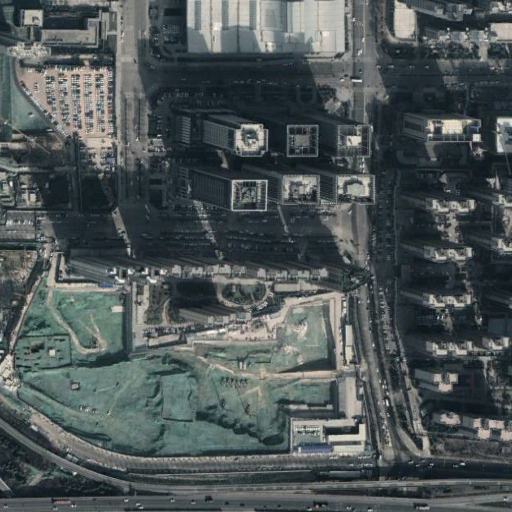cw: (7, 269, 338, 455)
